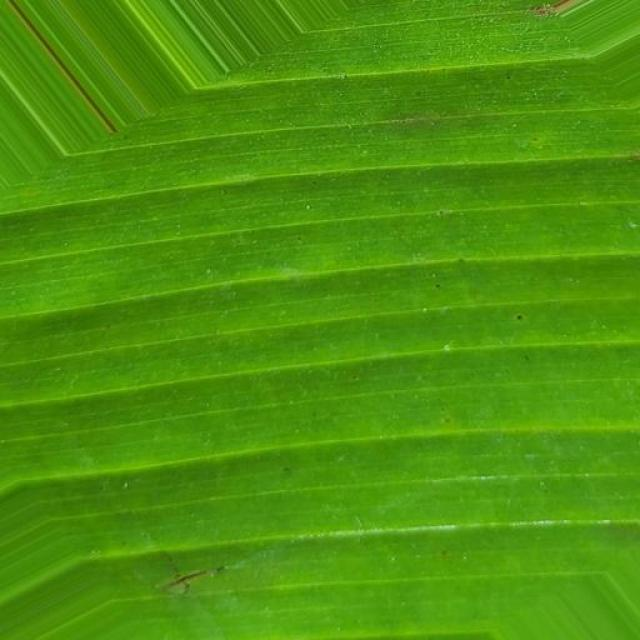Black_leaf_spot: (25, 0, 640, 563)
